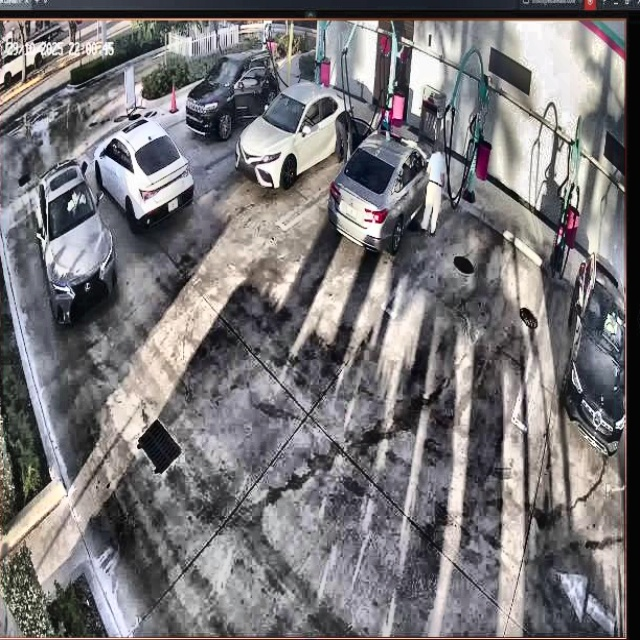Car: (331, 120, 435, 250), (235, 86, 354, 192), (103, 119, 192, 234)
